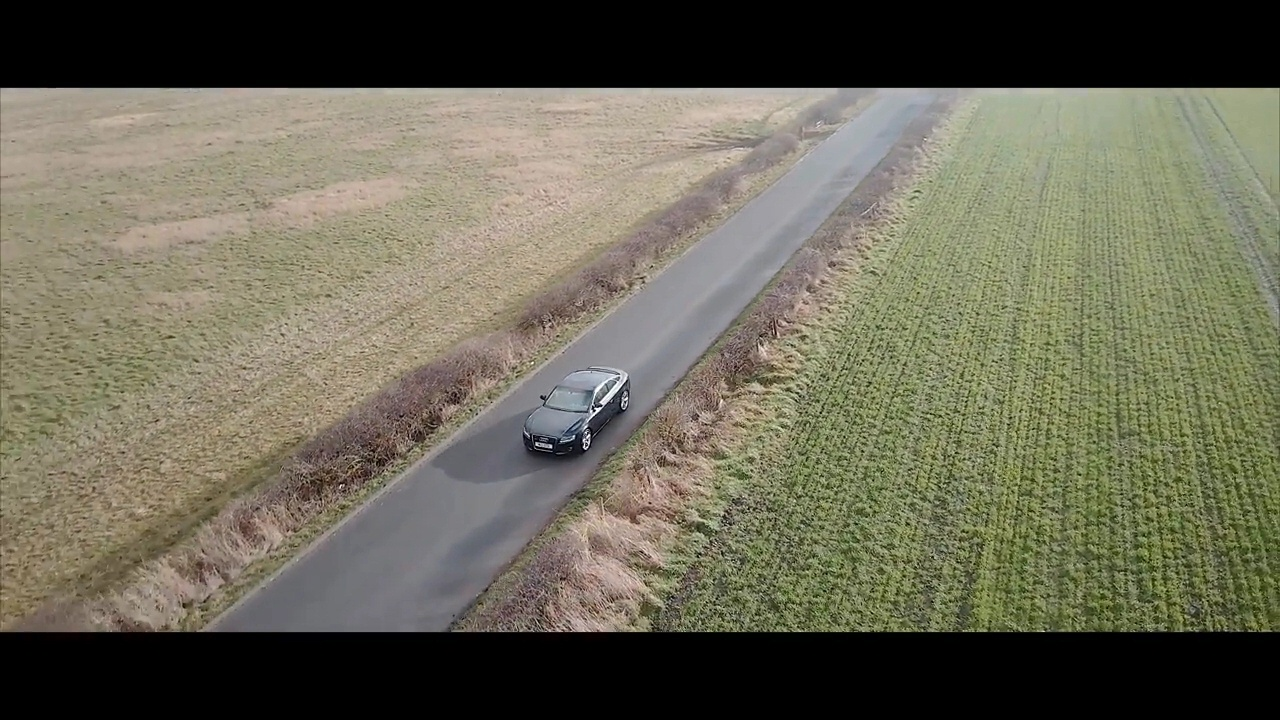araba: (521, 365, 634, 456)
